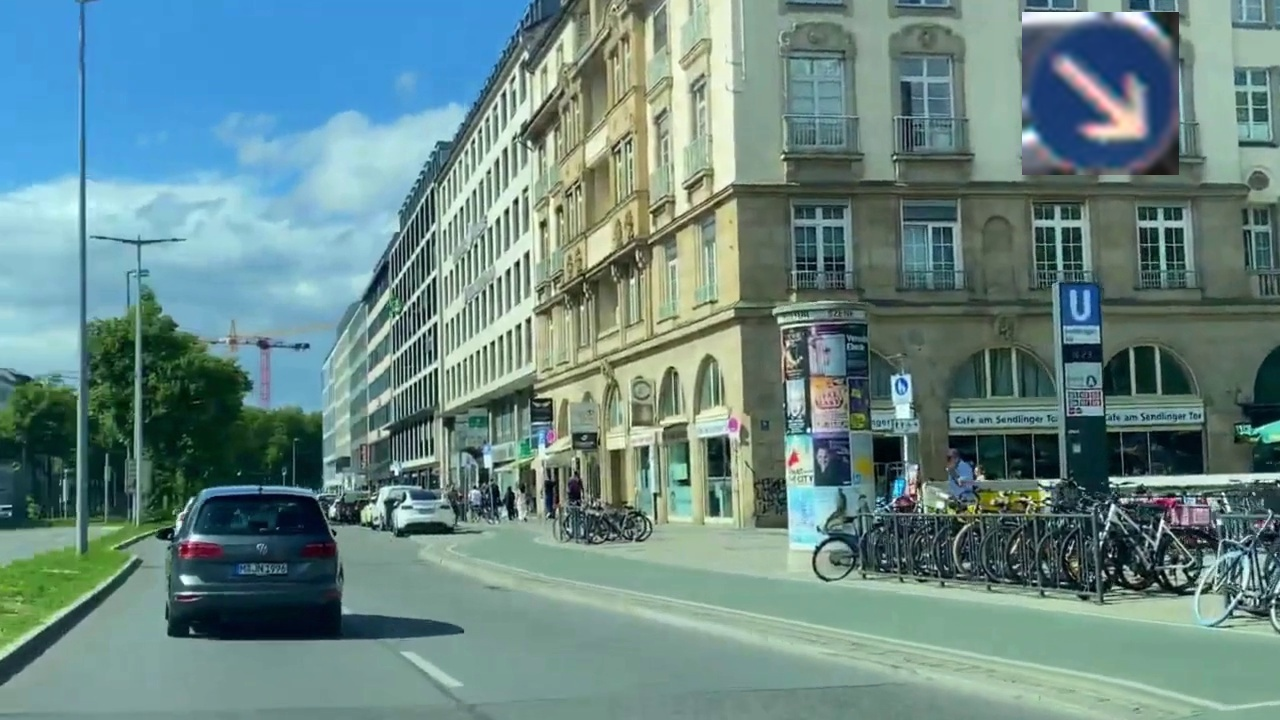Keep right: (1022, 12, 1179, 175)
